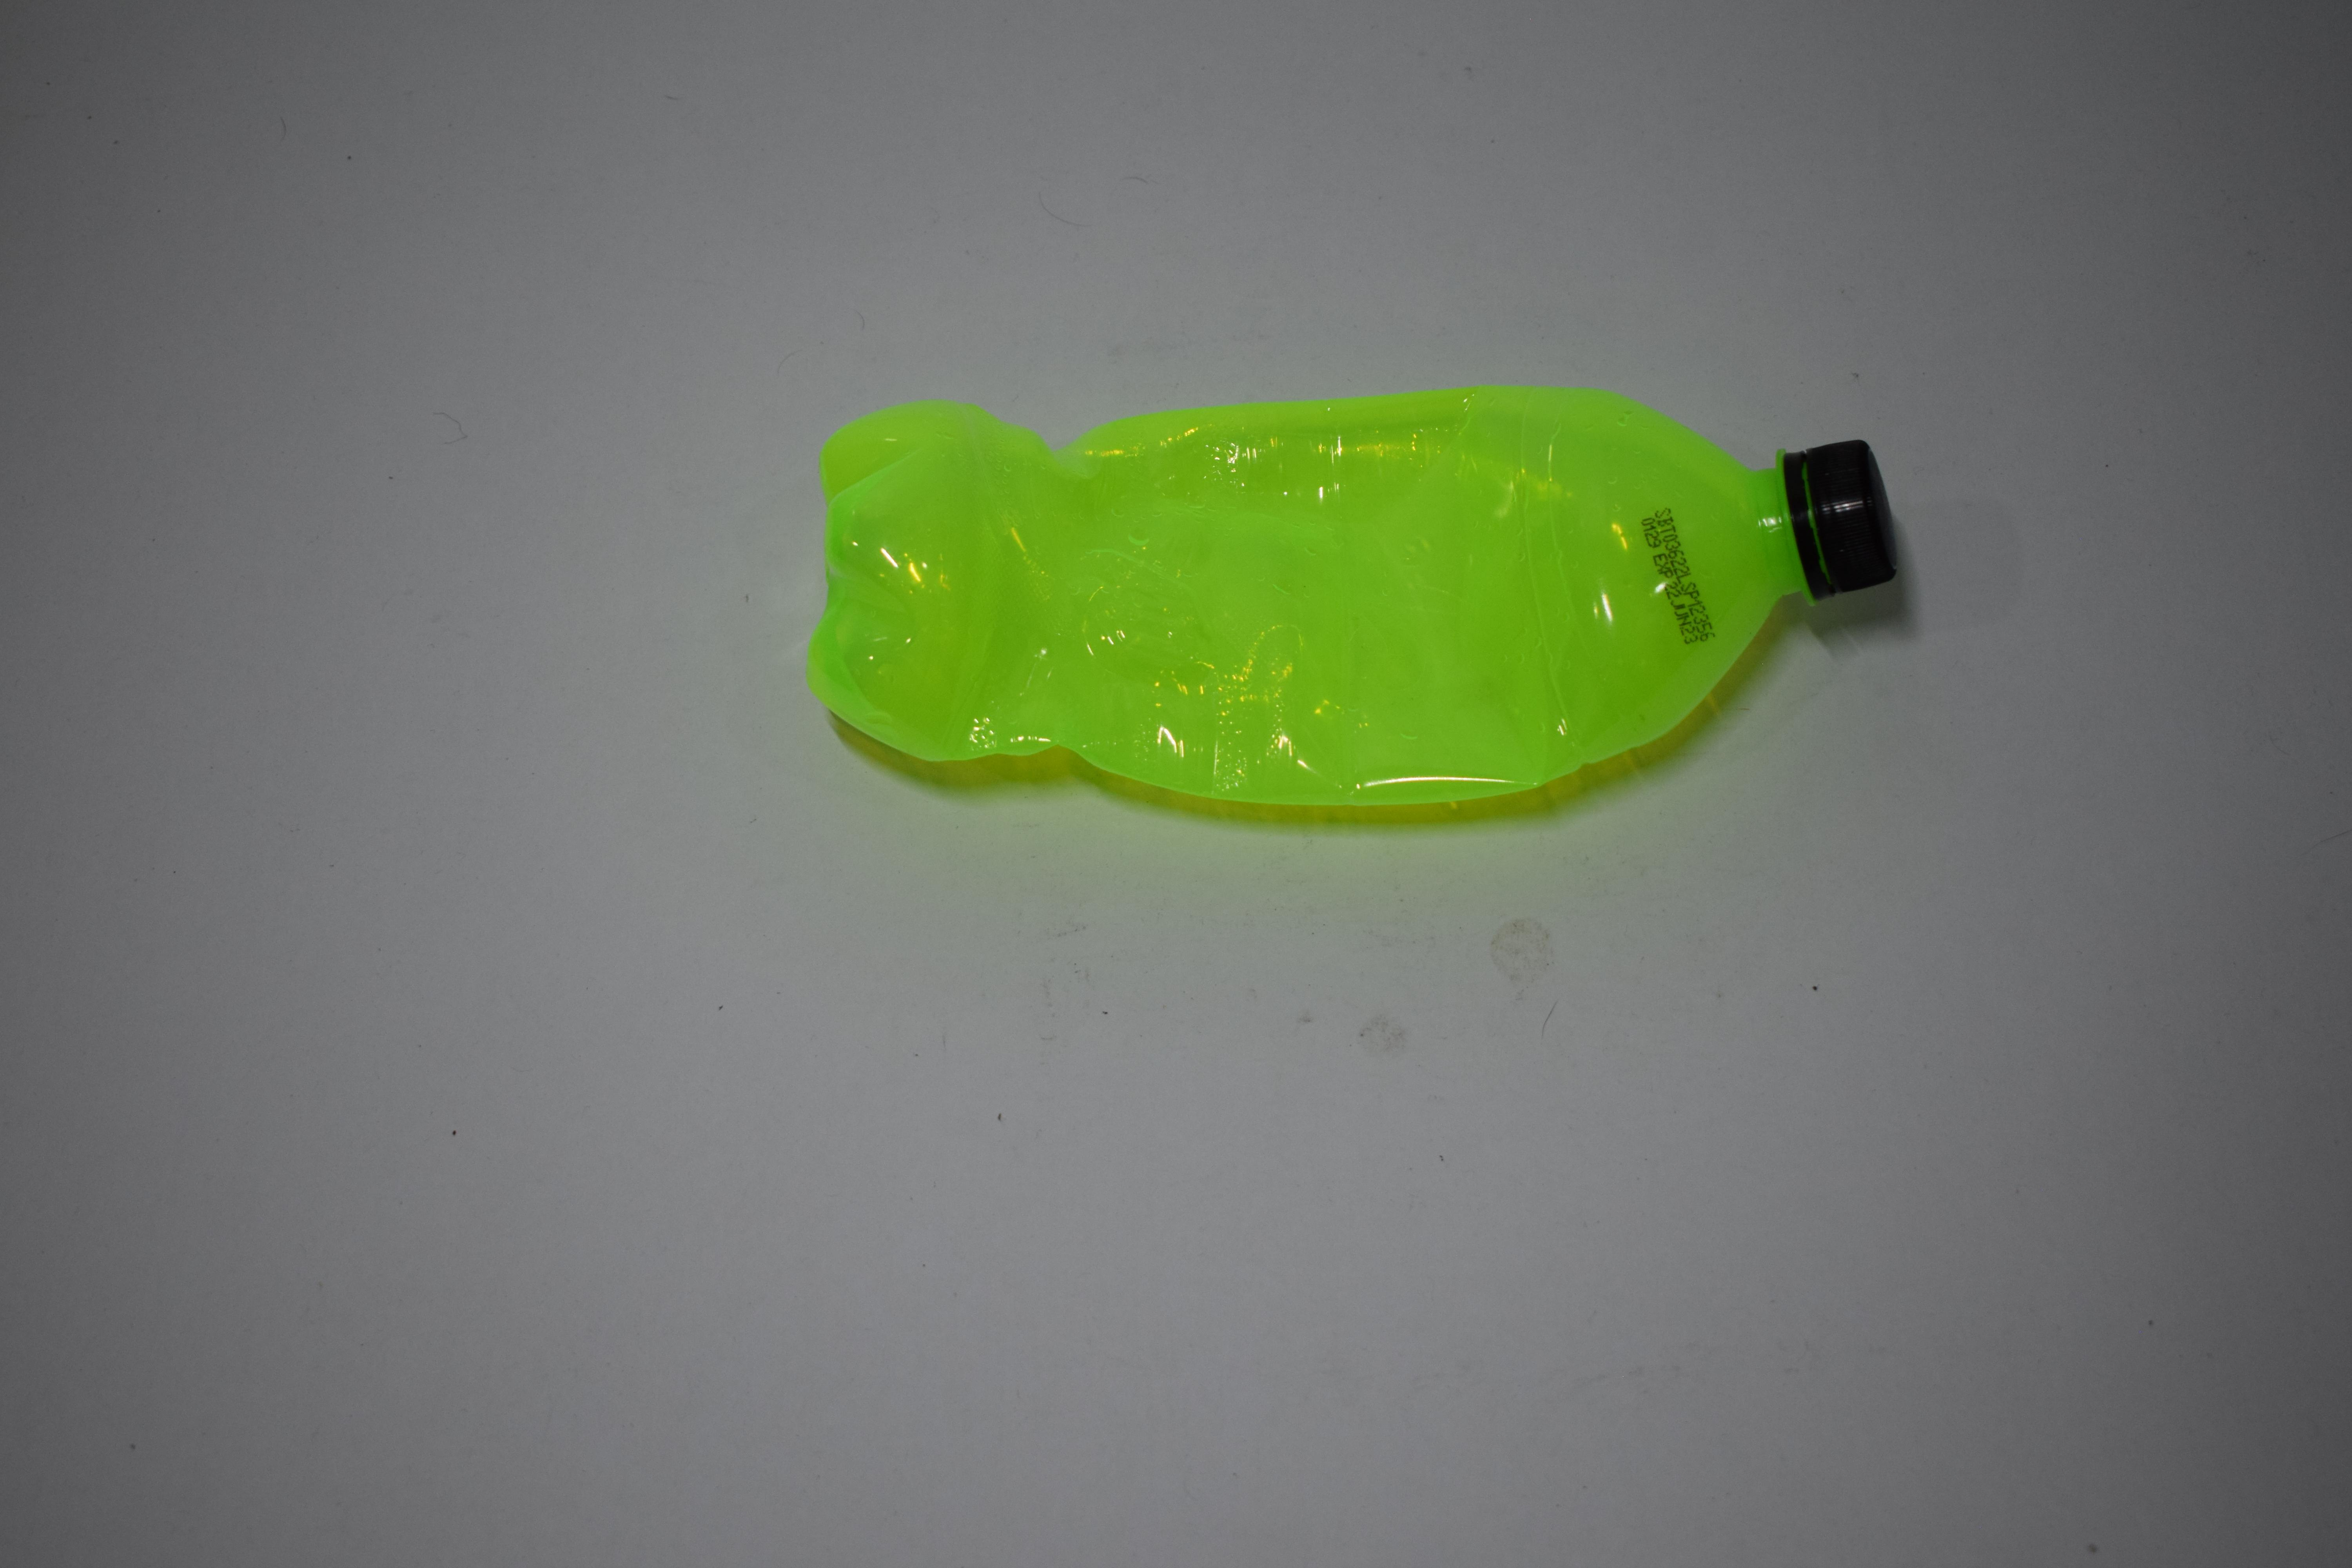bottle: (0, 376, 721, 819)
